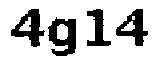1: (82, 3, 113, 52)
4: (115, 4, 155, 55), (7, 6, 47, 49)
g: (46, 14, 85, 60)
